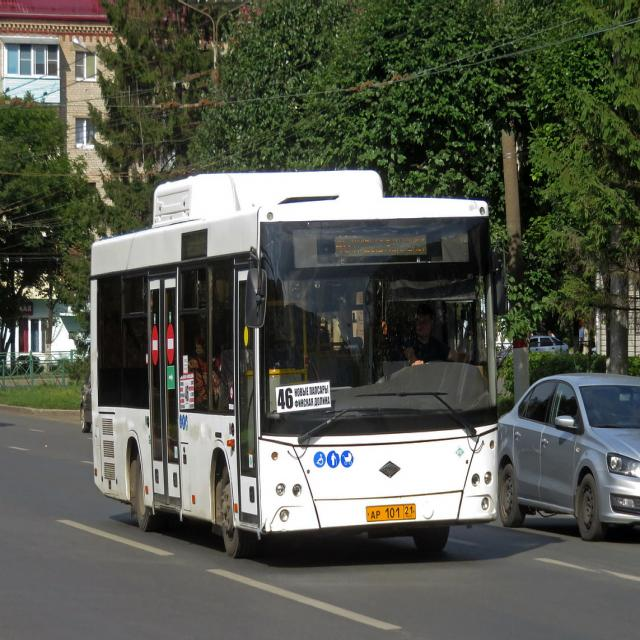number-of-bus: (278, 388, 296, 414)
